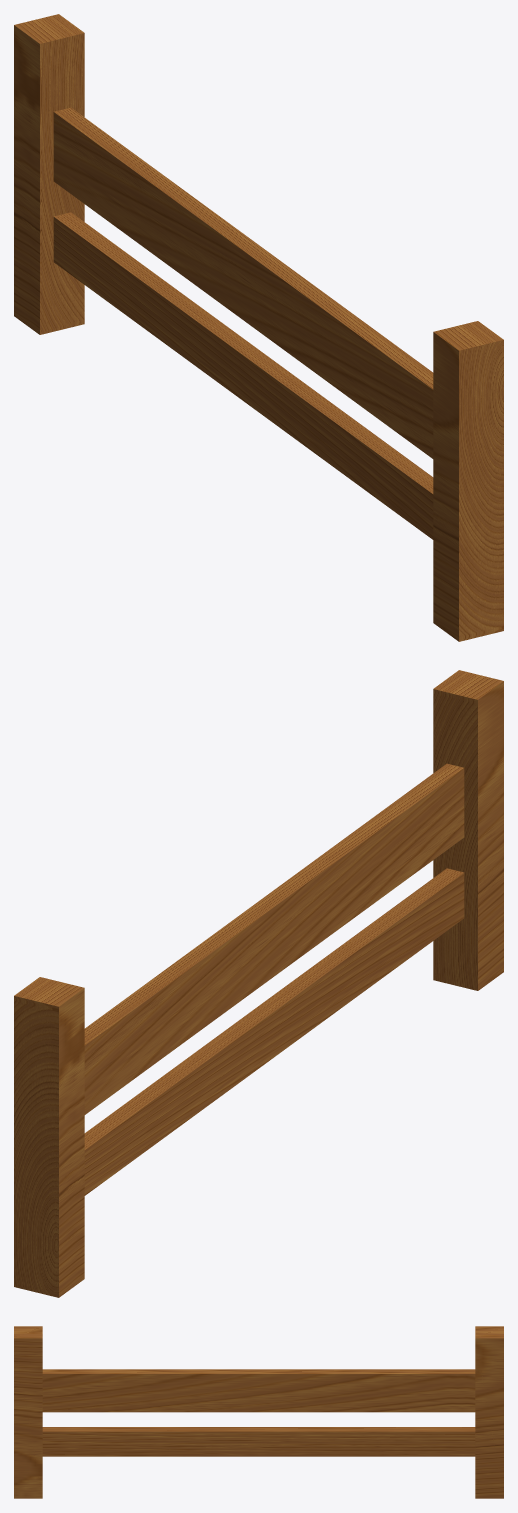
File: Valla1.1.fbx
3 renders of one model, top to bottom at view 1: azimuth 30°, elevation 25°; view 2: azimuth 150°, elevation 25°; view 3: azimuth 270°, elevation 25°, orthographic. The views are drawn at different scales.
Parts seen in each view (by area): view 1: Valla1; view 2: Valla1; view 3: Valla1.
Boxes of the visible parts, <box> form: Valla1: <box>14,14,503,641</box>; Valla1: <box>14,670,503,1297</box>; Valla1: <box>14,1326,503,1498</box>.
Bounding box in the file's own units: 14 × 86.8 × 241.
1 material, 1 textured.
